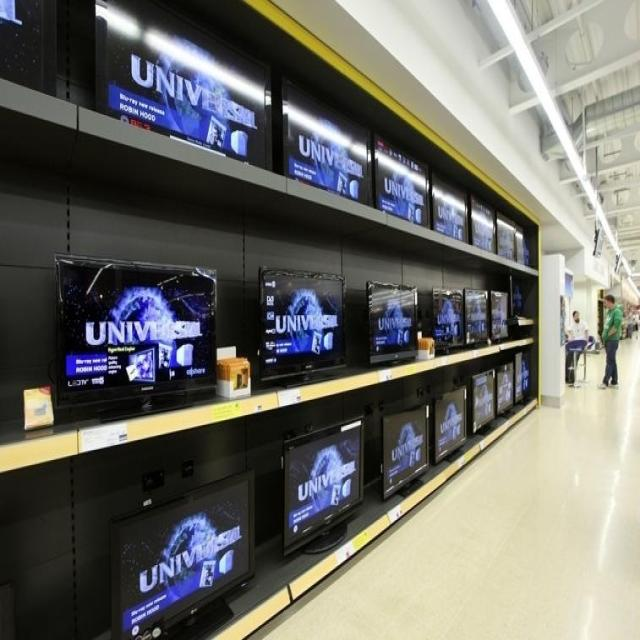E-waste: (50, 257, 538, 399), (90, 0, 392, 216), (71, 462, 269, 640)
